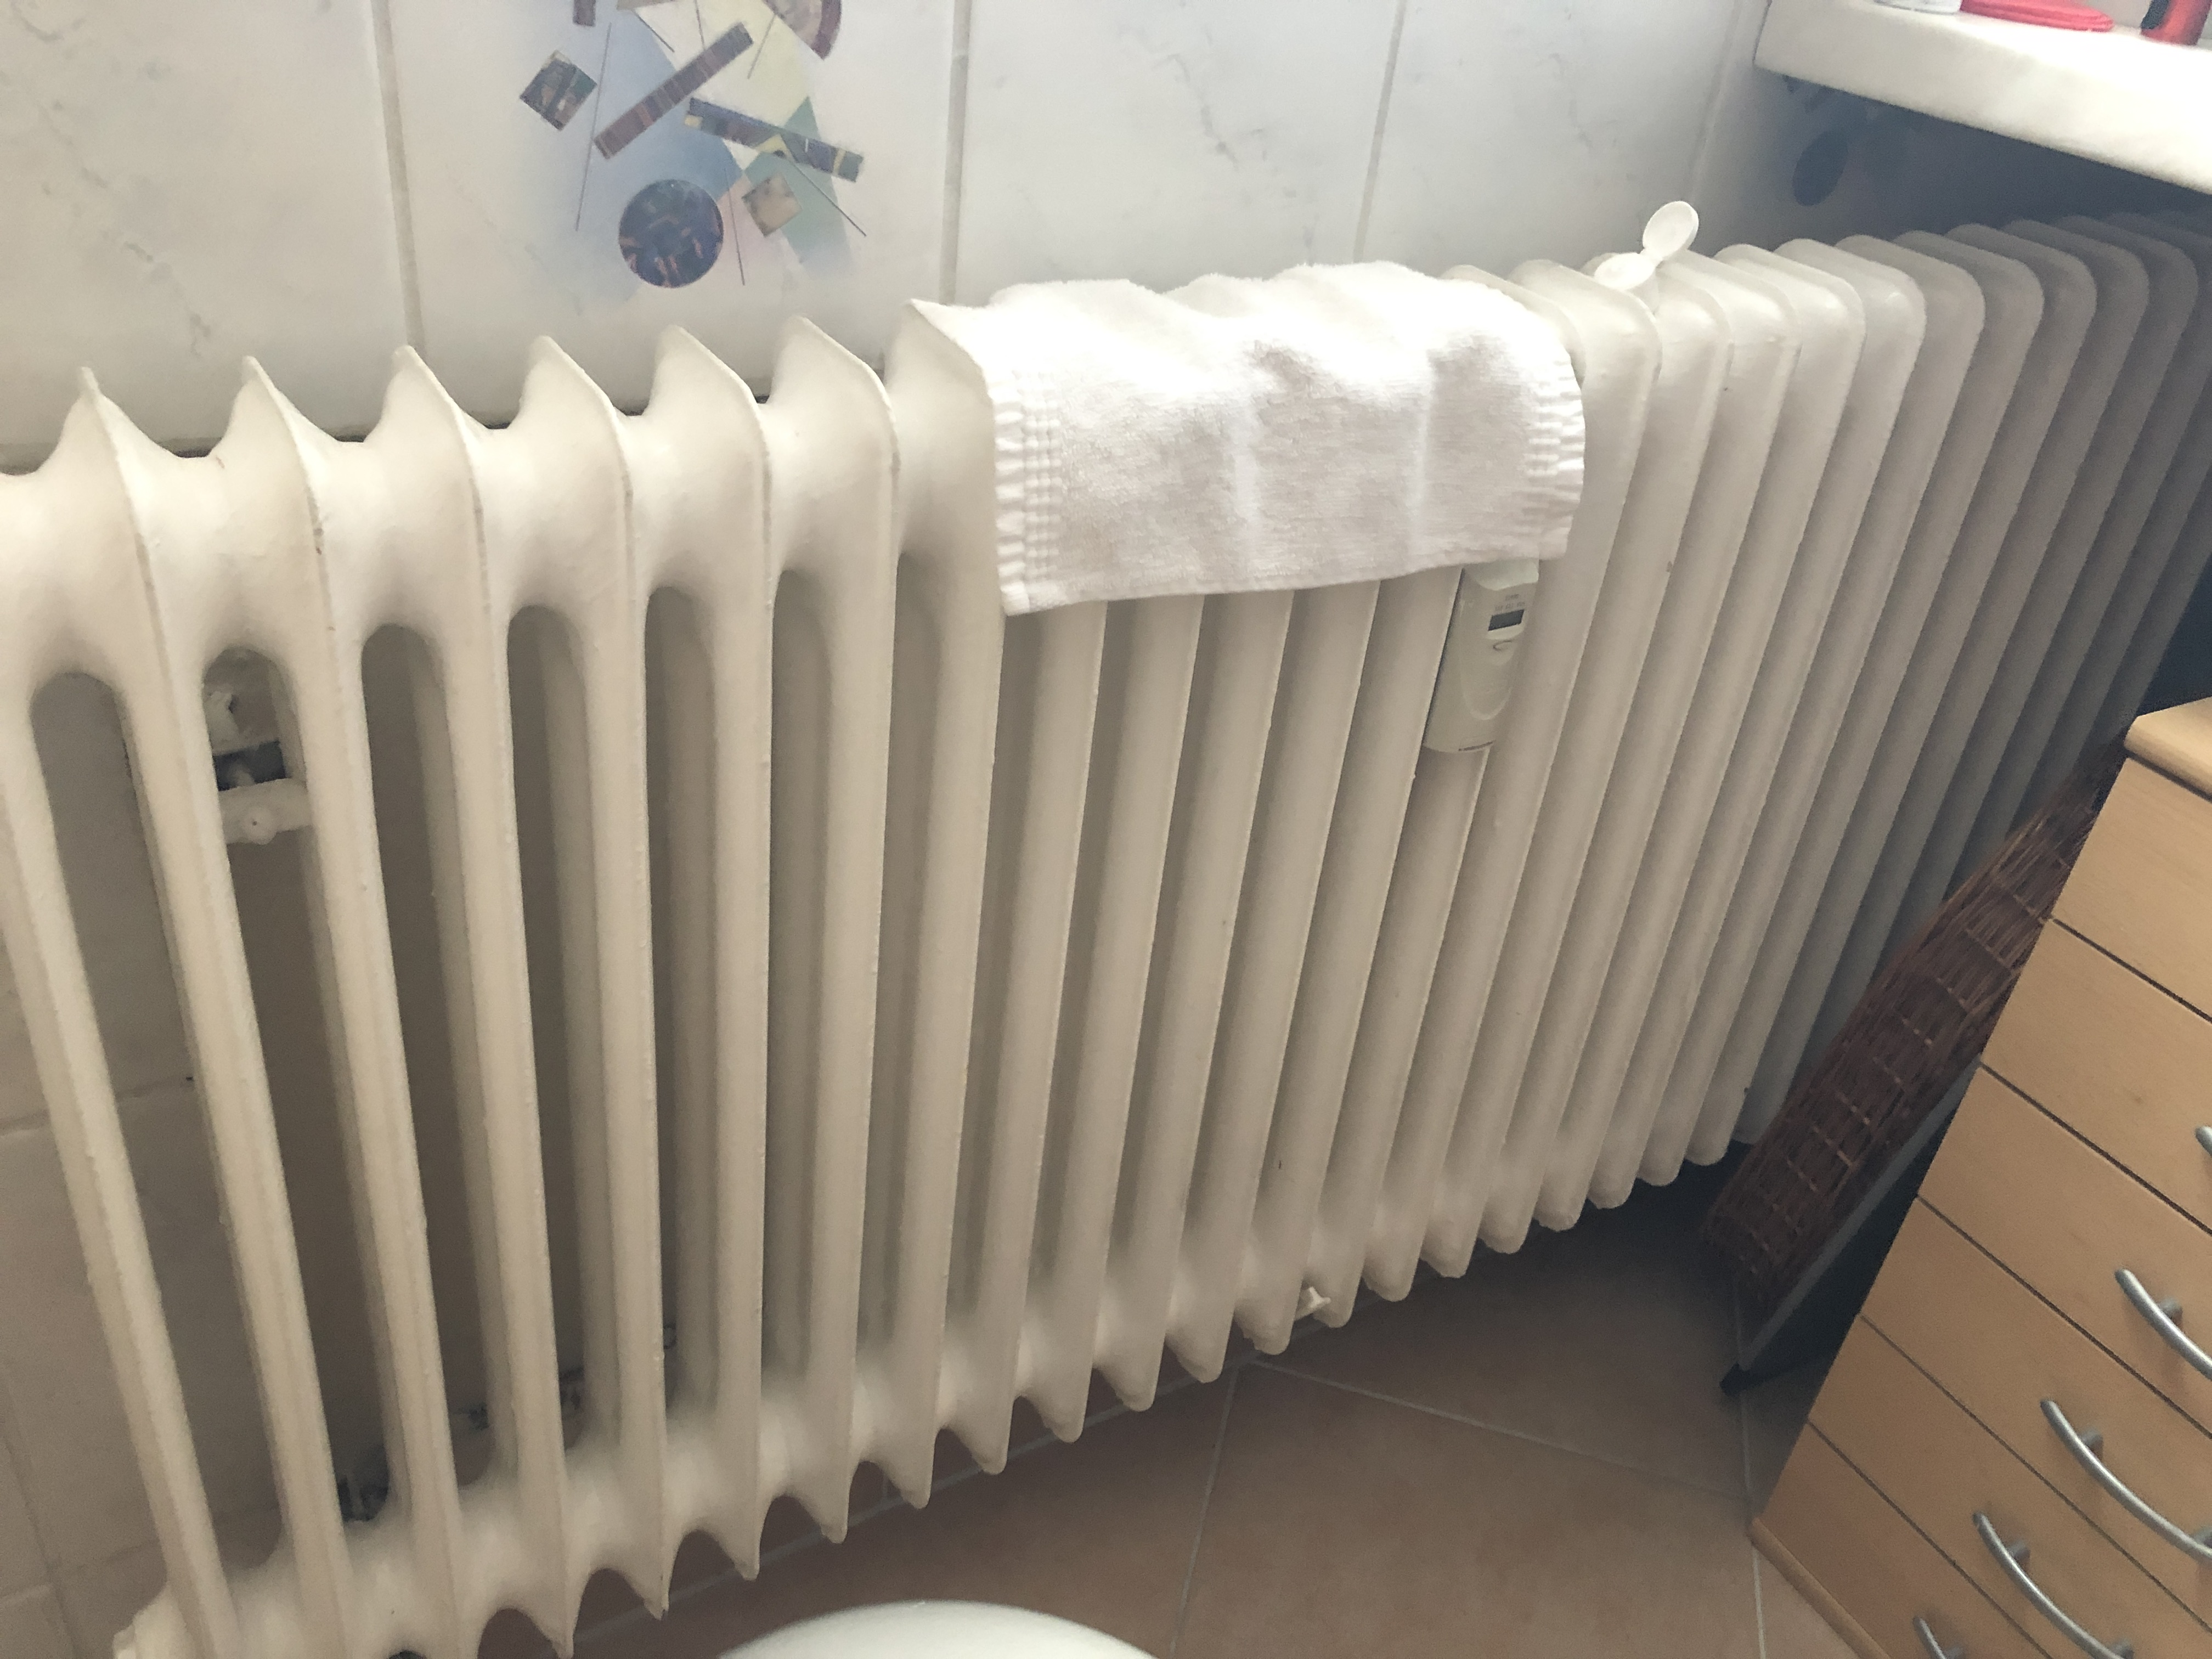Radiator: (9, 169, 2207, 1659)
